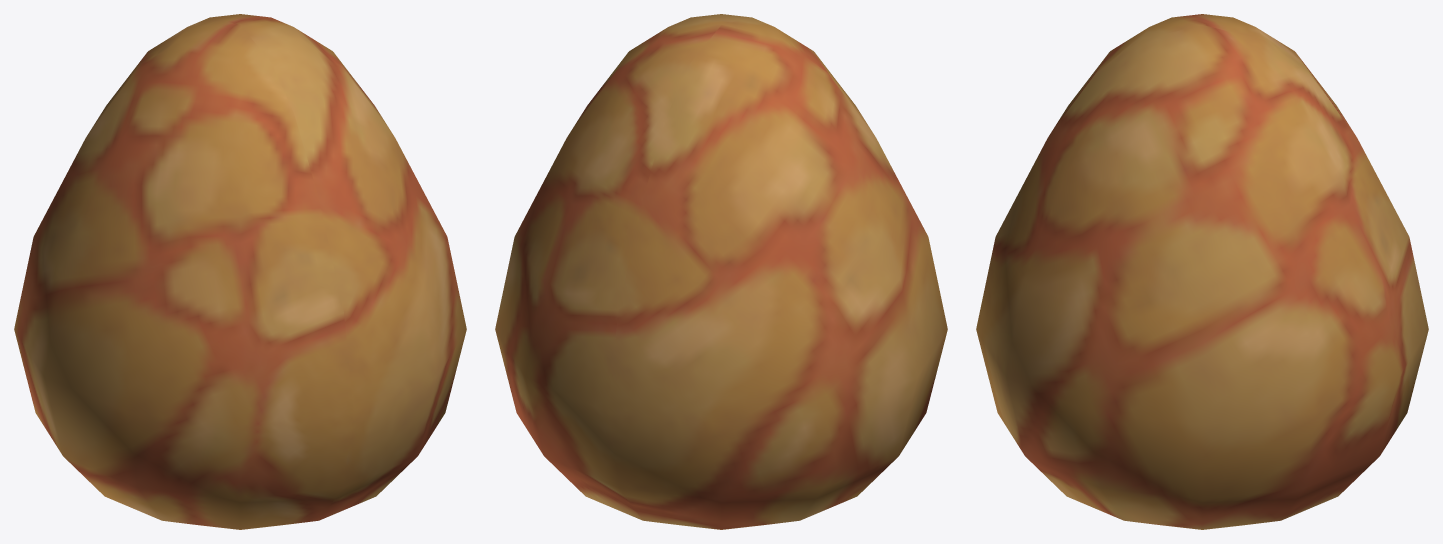
File: SpawnerNeutral.fbx
The picture shows the model from 3 angles, left to right: view 1: azimuth 30°, elevation 25°; view 2: azimuth 150°, elevation 25°; view 3: azimuth 270°, elevation 25°; orthographic projection.
Parts seen in each view (by area): view 1: Spawner_neutral; view 2: Spawner_neutral; view 3: Spawner_neutral.
Part boxes in pixels (<box>): Spawner_neutral: <box>14,14,466,529</box>; Spawner_neutral: <box>495,14,947,529</box>; Spawner_neutral: <box>976,14,1428,529</box>.
Size of the model in its own units: 0.7514 by 0.8817 by 0.7514.
